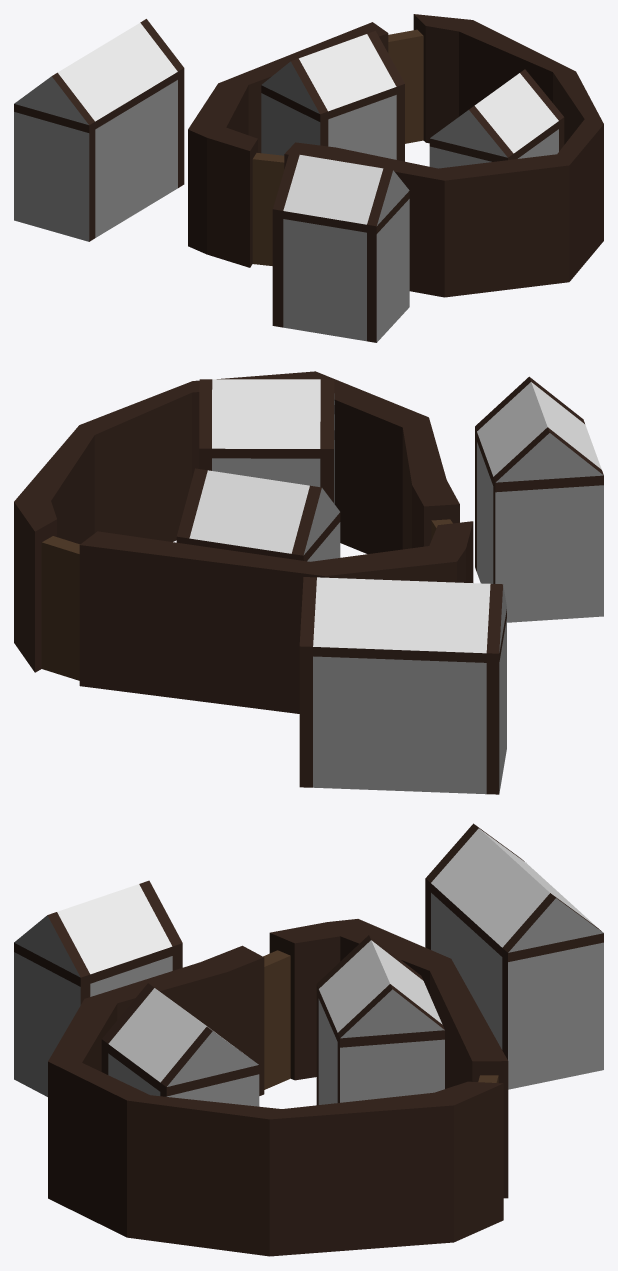
Rendered from SM_TileVillageCamp.fbx.
3 renders of one model, top to bottom at view 1: azimuth 30°, elevation 25°; view 2: azimuth 150°, elevation 25°; view 3: azimuth 270°, elevation 25°, orthographic. The views are drawn at different scales.
Parts seen in each view (by area): view 1: TileVillageCamp; view 2: TileVillageCamp; view 3: TileVillageCamp.
Boxes of the visible parts, box(x1,y1,x2,y2) form: TileVillageCamp: box(14, 14, 603, 342); TileVillageCamp: box(14, 371, 603, 794); TileVillageCamp: box(14, 823, 603, 1256).
Size of the model in its own units: 360 by 117 by 344.
